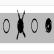correct: (45, 16, 52, 34)
no answer: (2, 16, 10, 36), (31, 16, 38, 34)
not correct: (17, 8, 26, 42)
